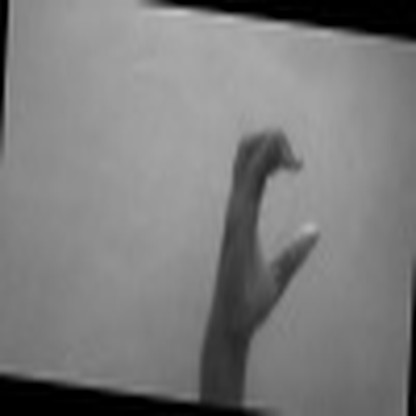c: (211, 119, 323, 319)
